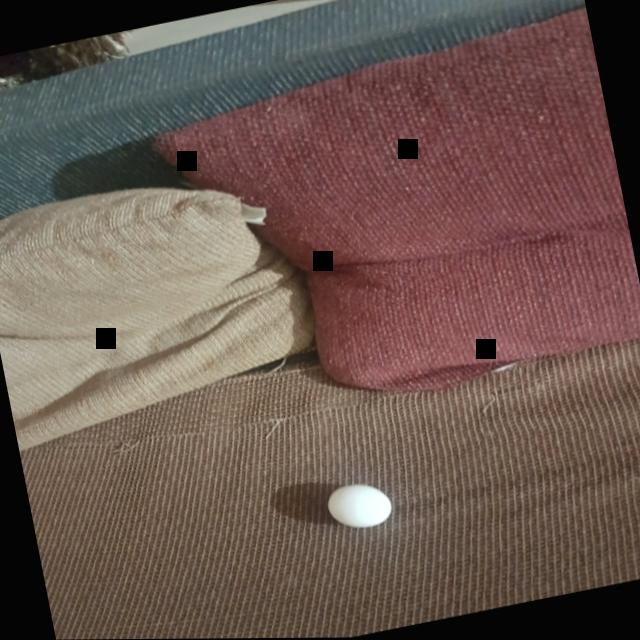eggs: (320, 471, 404, 538)
